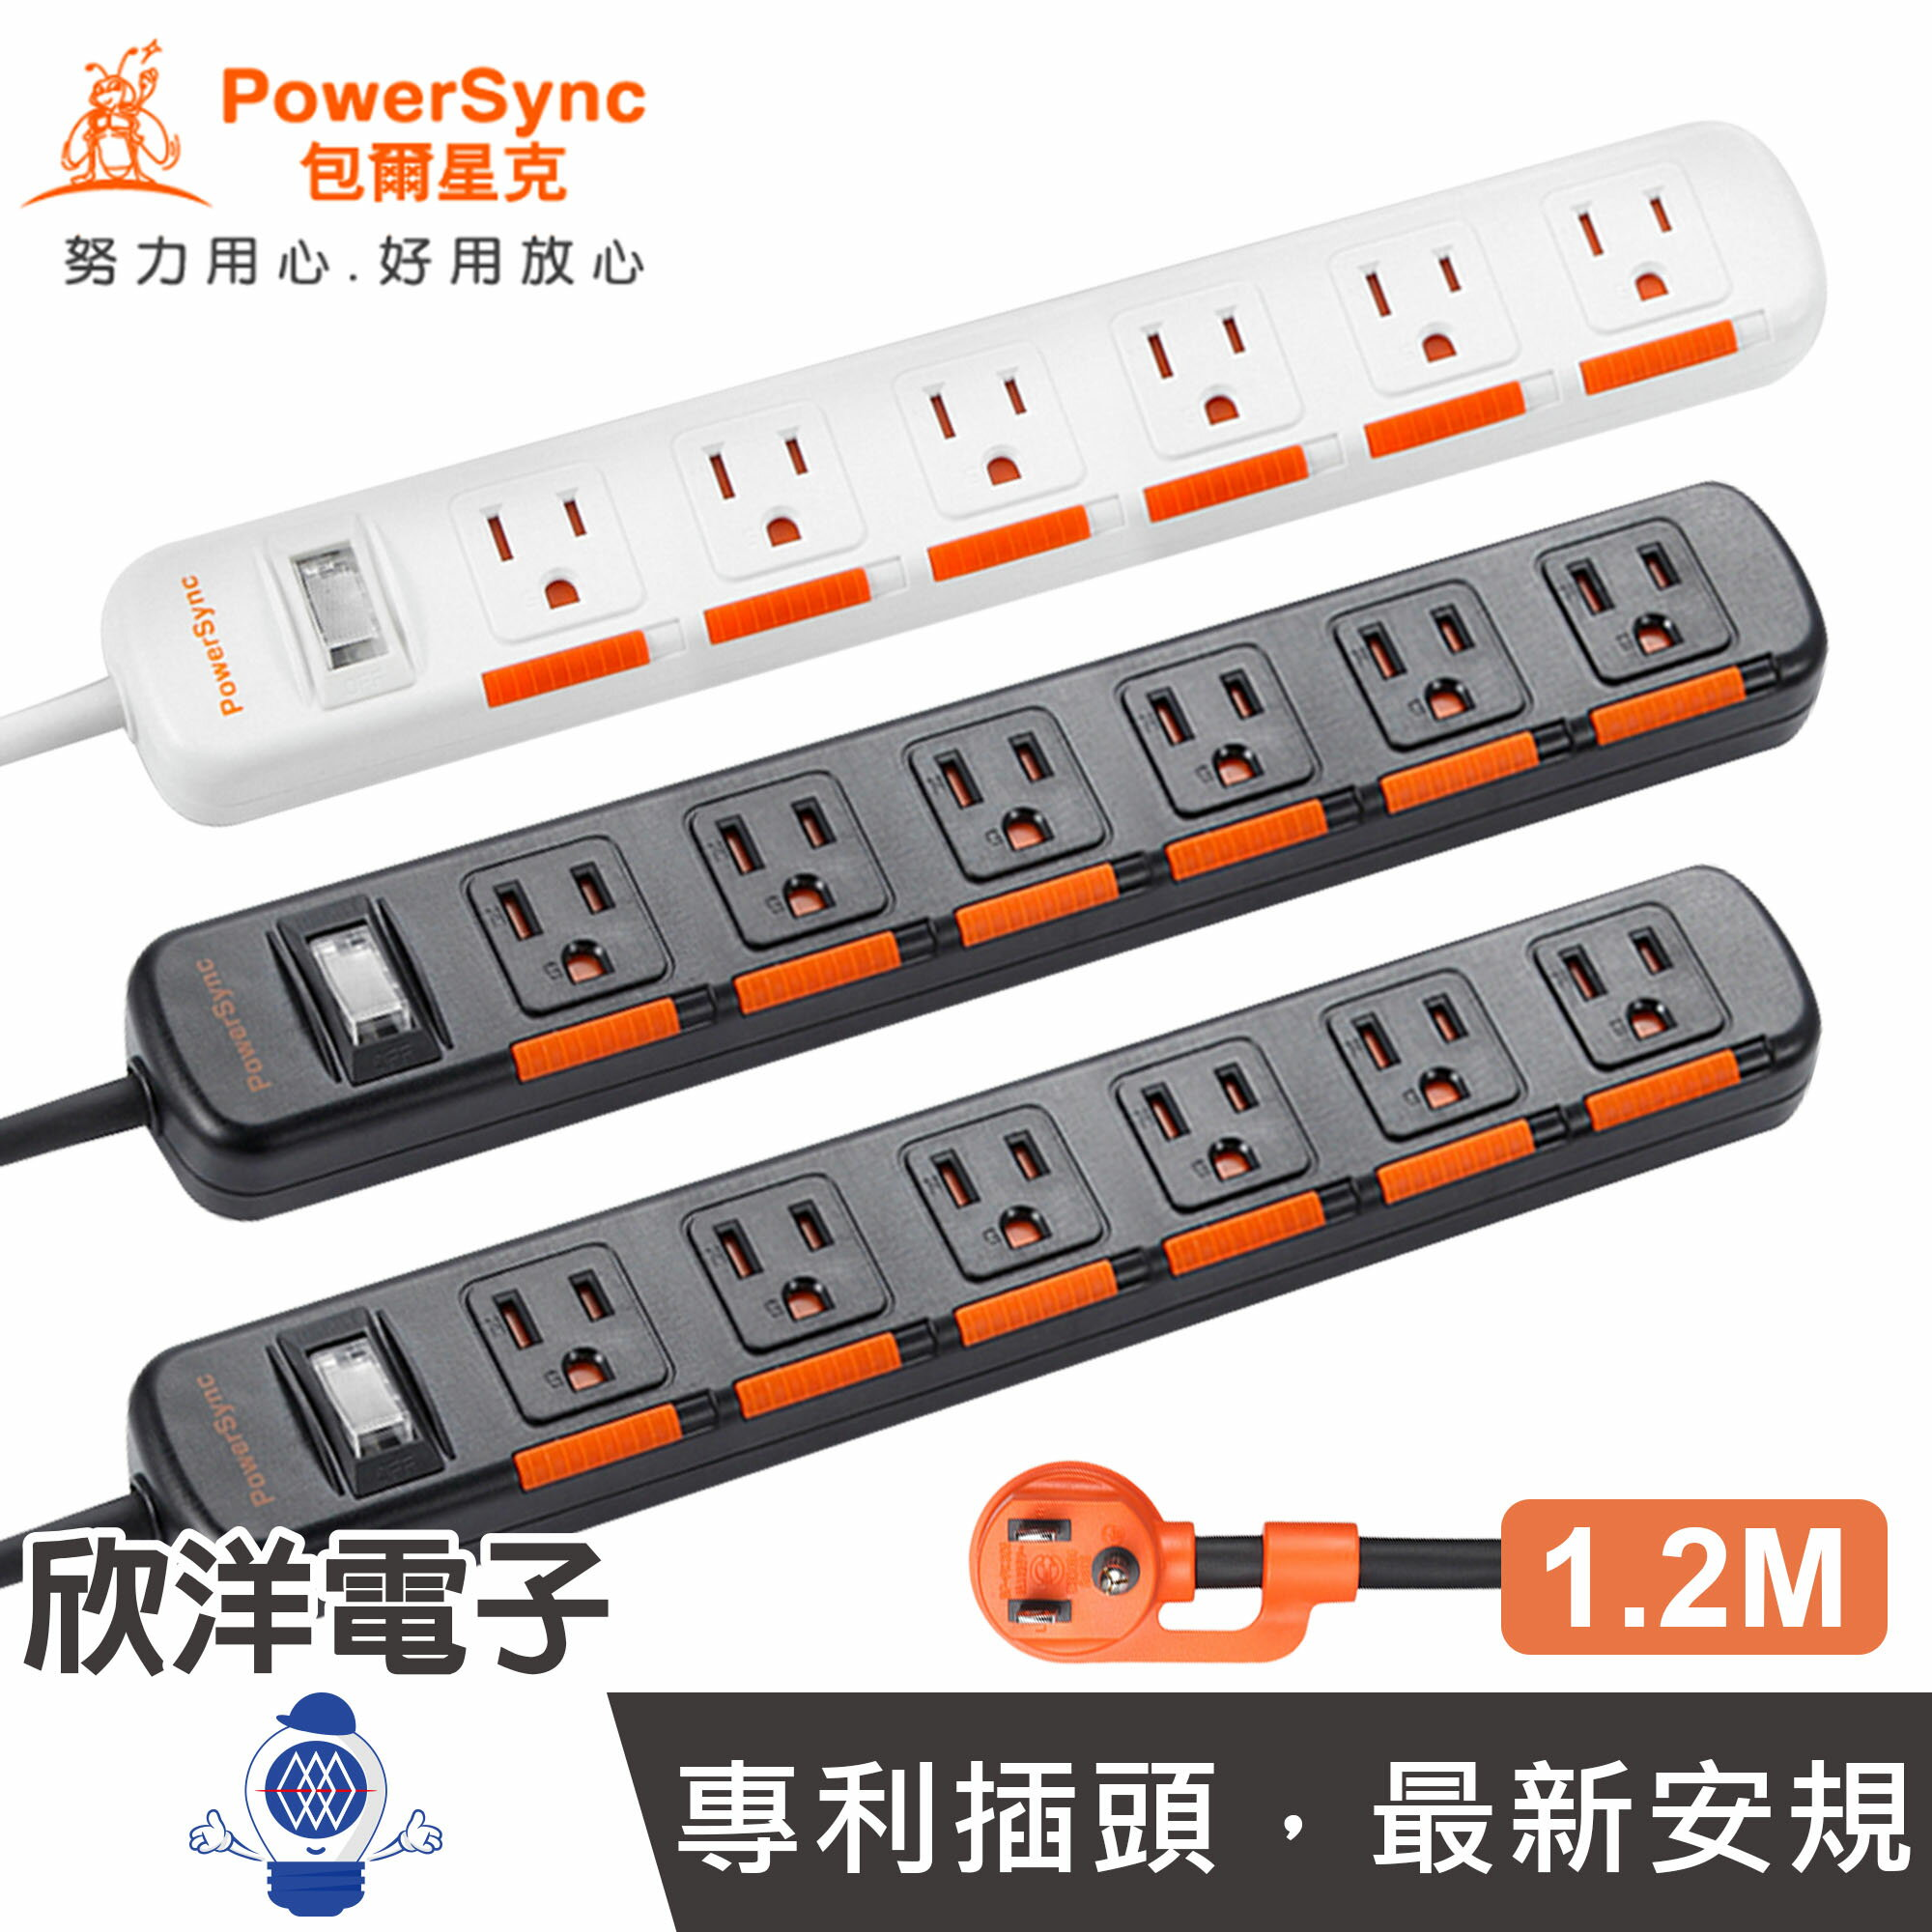socket: (12, 476, 1829, 1224), (25, 117, 1828, 826), (124, 858, 1826, 1575)
